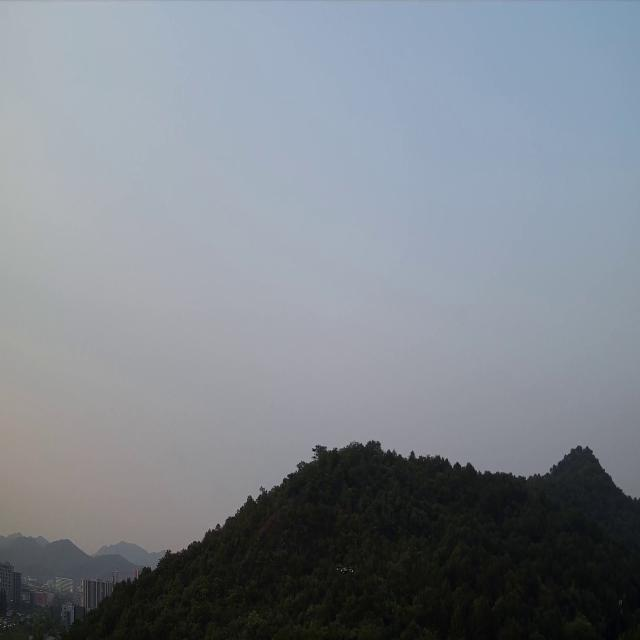UAV: (336, 566, 354, 574)
